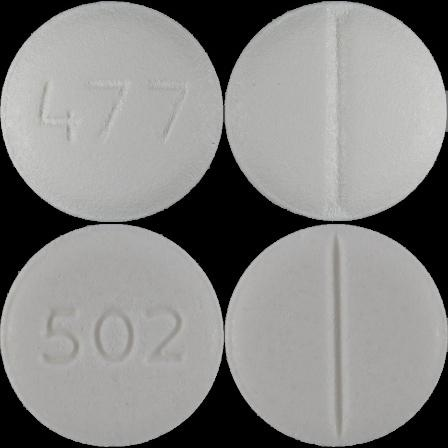57664-477: (0, 0, 224, 224)
